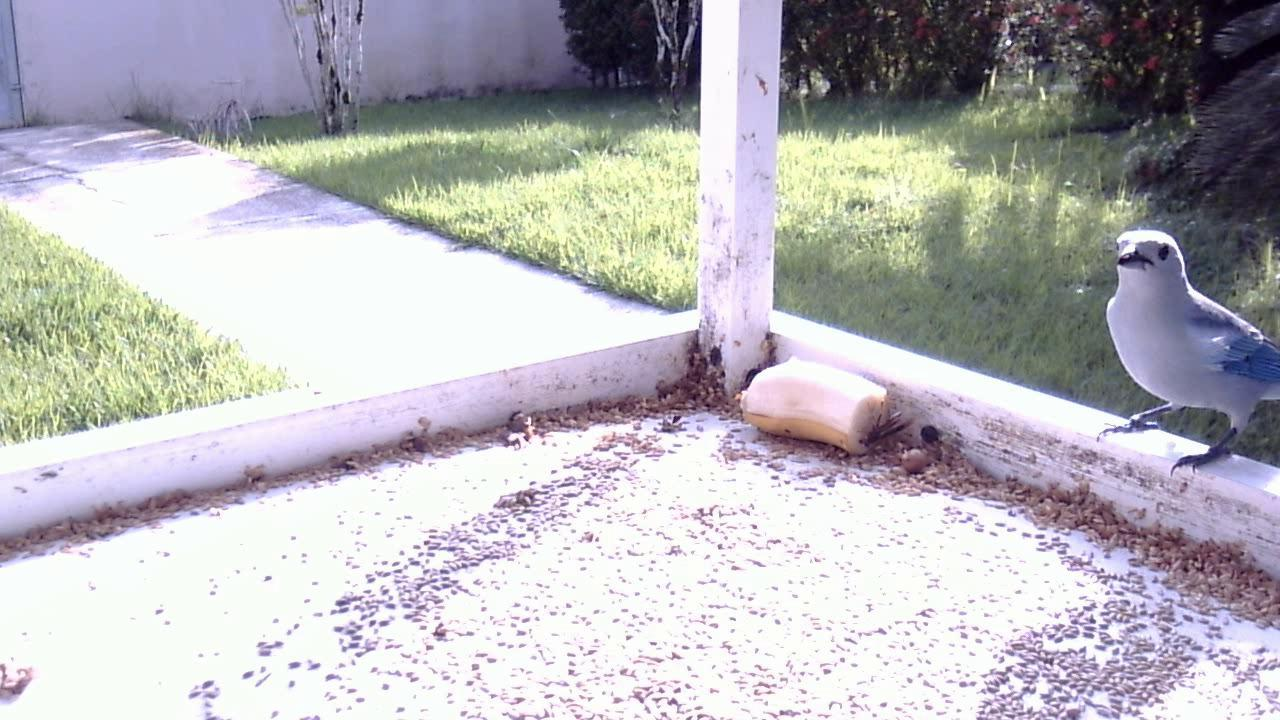sanhaco_da_amazonia: (1089, 223, 1278, 491)
